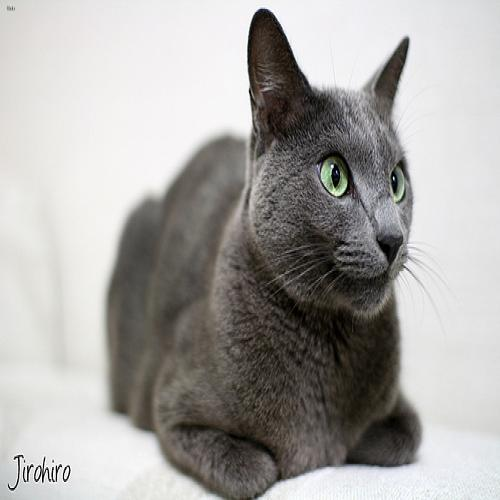rblue: (235, 3, 434, 337)
